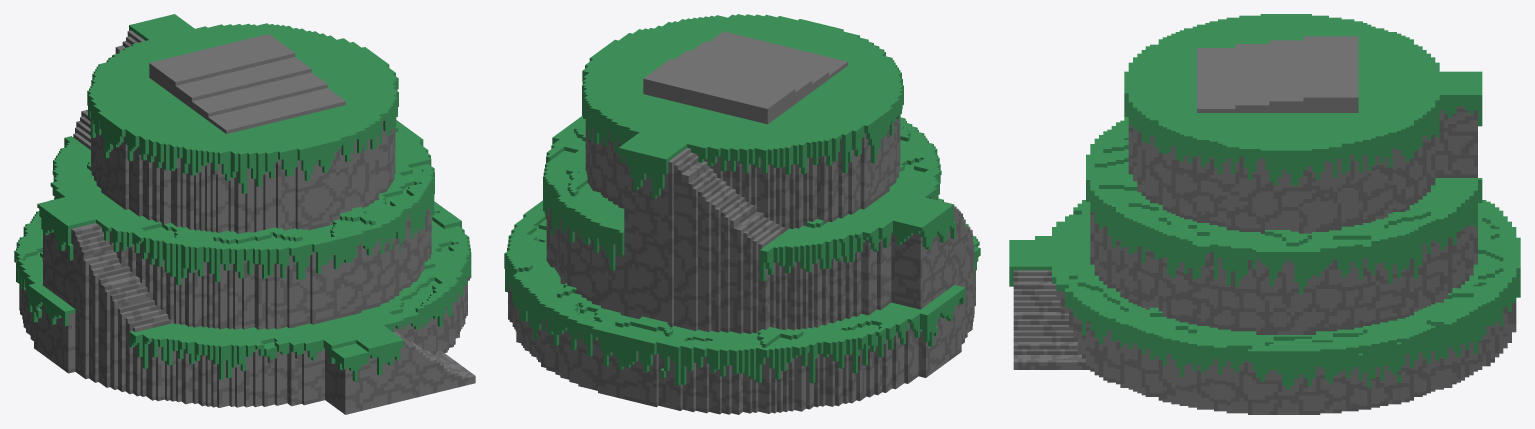
Rendered from Mountain.obj.
3 views of the same model, side by side, from view 1: azimuth 30°, elevation 25°; view 2: azimuth 150°, elevation 25°; view 3: azimuth 270°, elevation 25° (orthographic). The views are drawn at different scales.
Bounding box in the file's own units: 11.1 × 6.5 × 12.
Materials: 1 (1 with a texture image).
